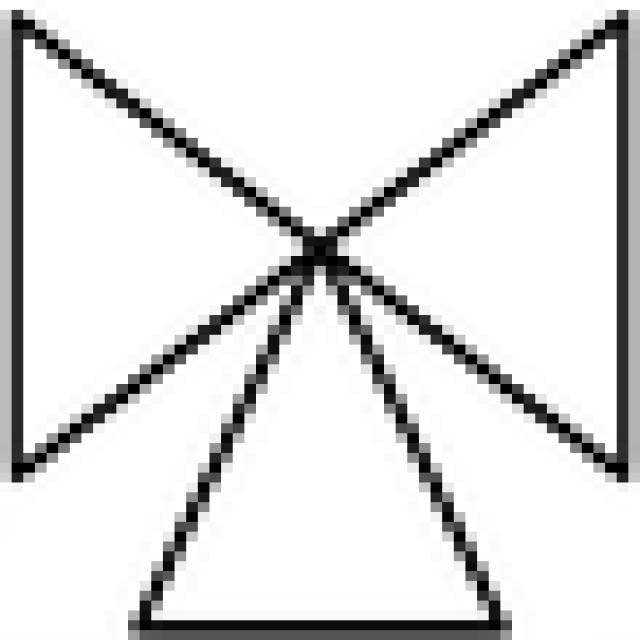3-way Valve: (139, 15, 628, 628), (16, 21, 319, 475)
